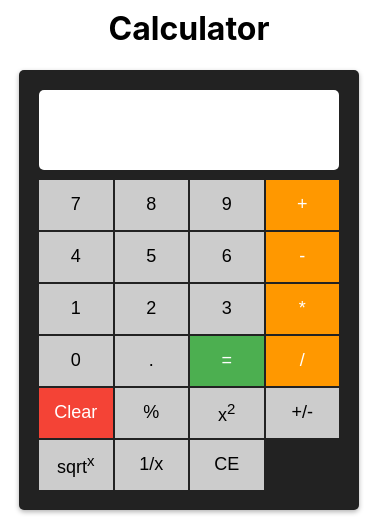
Test: test divide by zero › divide by zero
The width and height of the screenshot is (379, 532).
Click the button "5".
click(151, 257)  # box x1=114 y1=232 x2=188 y2=282
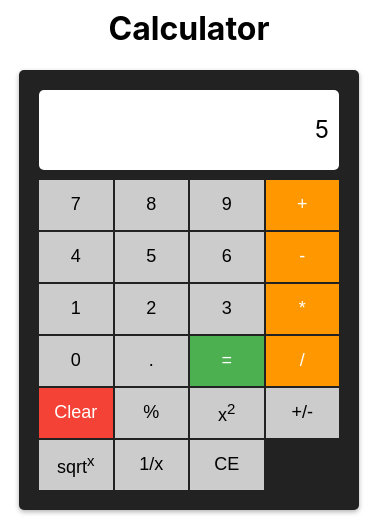
Click the button with test id "divide".
click(302, 361)  # box x1=266 y1=336 x2=339 y2=386
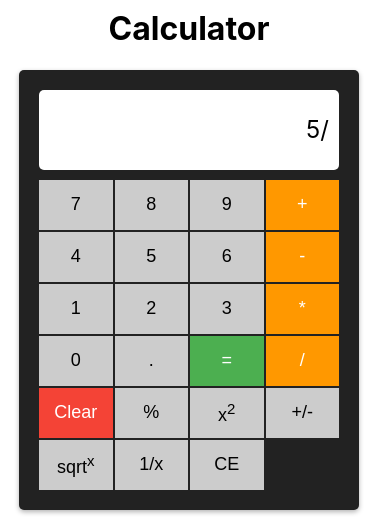
Click the button with test id "number0".
click(76, 361)  # box x1=39 y1=336 x2=112 y2=386
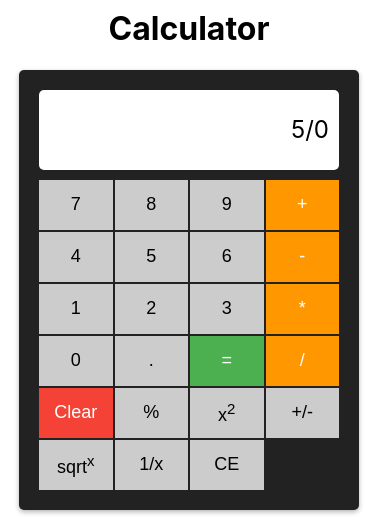
Click the button "=".
click(227, 361)  # box x1=190 y1=336 x2=264 y2=386
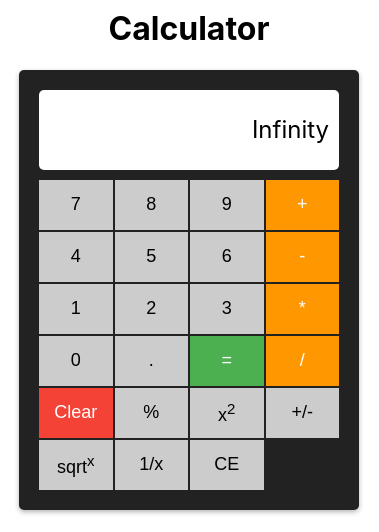
Result: the text with test id "display" reads "Infinity" at x1=252 y1=115 x2=329 y2=144
